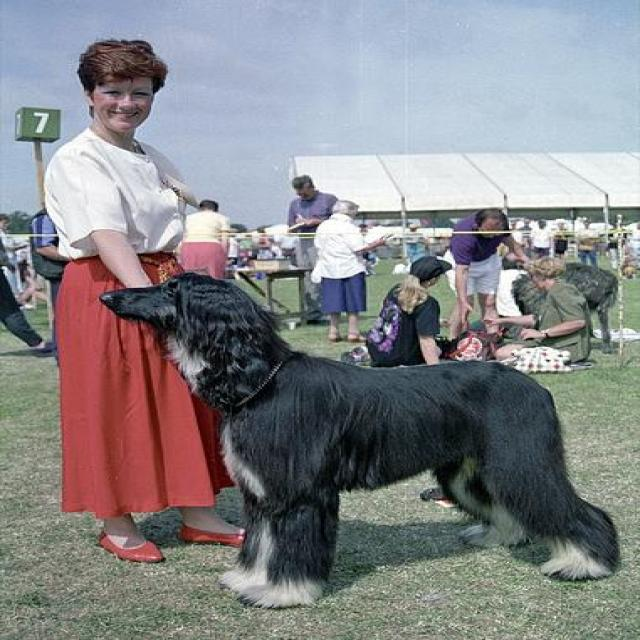afghan_hound: (96, 269, 622, 612)
